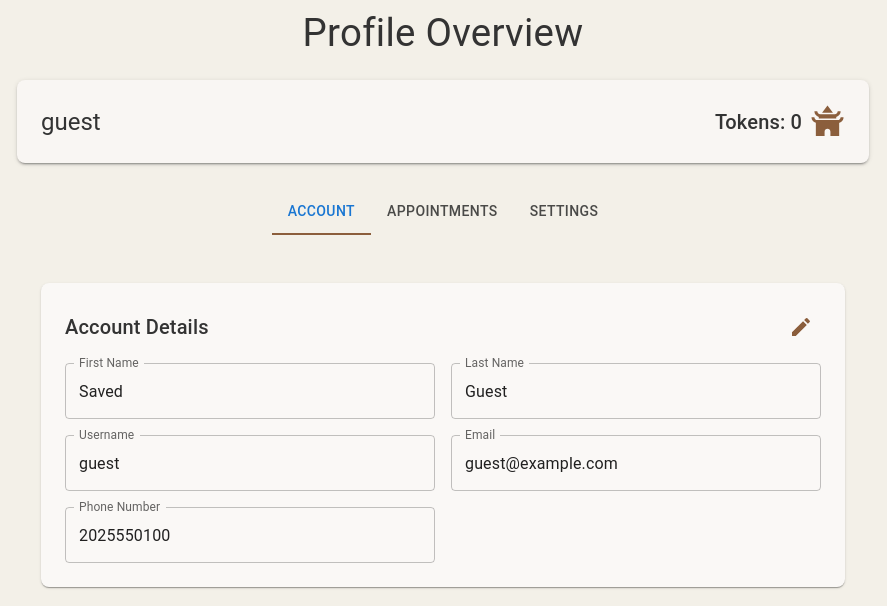
restores saved values when an edit is cancelled
Click the button named "Edit account details" at (801, 327), box [781,307,821,347]
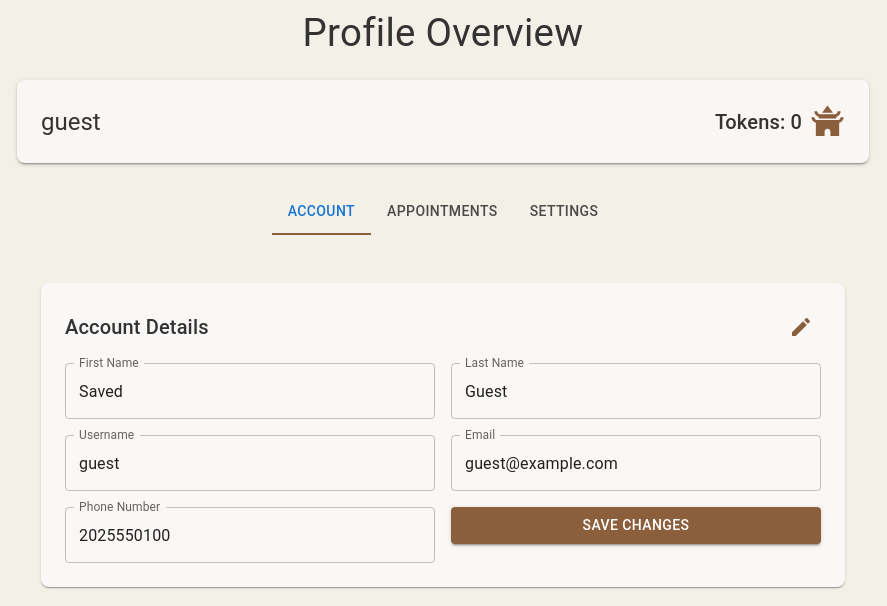
Replace the text in the field labelled "First Name" with "Unsaved" at (250, 391), box [65,363,435,419]
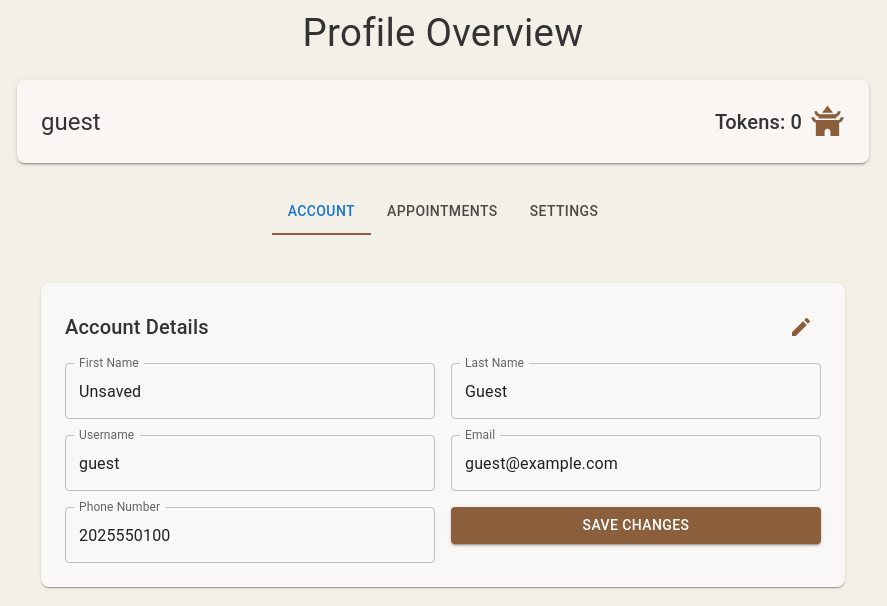
Click the button named "Cancel editing" at (801, 327), box [781,307,821,347]
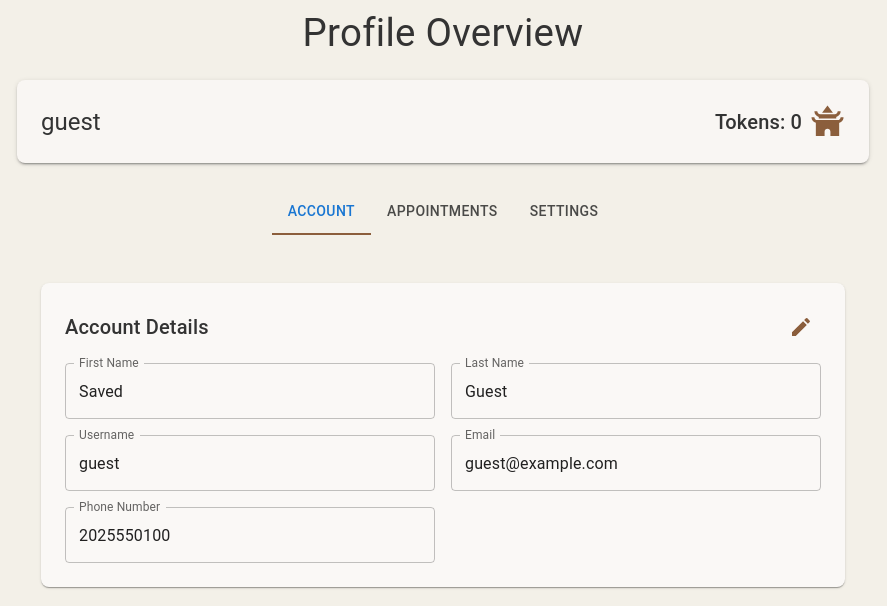
Now the field labelled "First Name" holds "Saved", box [65,363,435,419]
